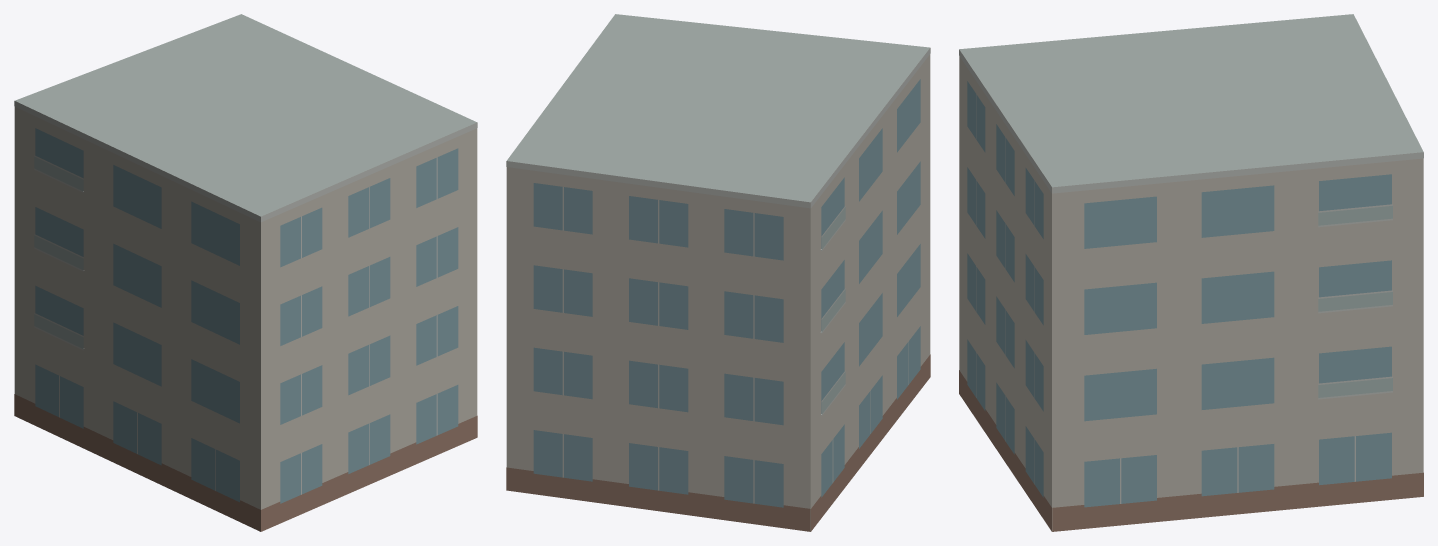
The model's file is survey-upis-32979447.glb.
3 renders of one model, left to right at view 1: azimuth 30°, elevation 25°; view 2: azimuth 150°, elevation 25°; view 3: azimuth 270°, elevation 25°, orthographic. The views are drawn at different scales.
Parts seen in each view (by area): view 1: survey-upis-32979447.tmp; view 2: survey-upis-32979447.tmp; view 3: survey-upis-32979447.tmp.
Part boxes in pixels (x1=…): survey-upis-32979447.tmp: x1=14, y1=14, x2=477, y2=531; survey-upis-32979447.tmp: x1=506, y1=14, x2=930, y2=531; survey-upis-32979447.tmp: x1=959, y1=14, x2=1423, y2=531.
Bounding box in the file's own units: 14.42 × 13.36 × 16.34.
